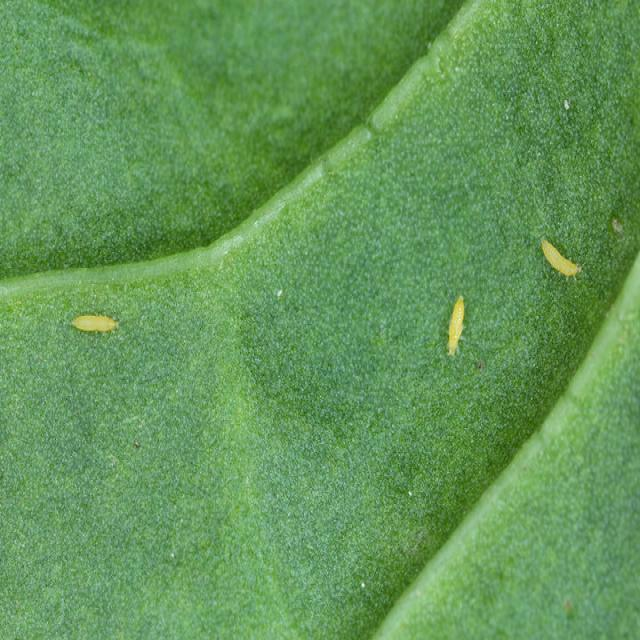Thrip-Adult-: (533, 218, 589, 289), (438, 271, 472, 366), (61, 300, 130, 346)
